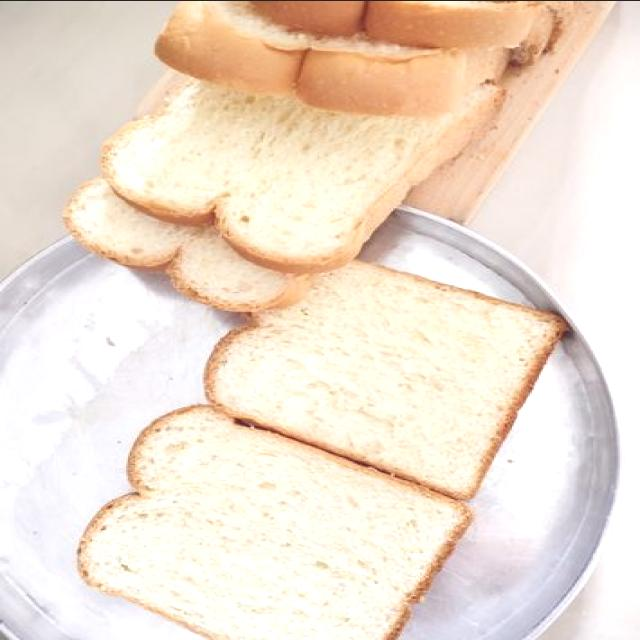roti tawar: (79, 402, 476, 640), (206, 258, 568, 501)
